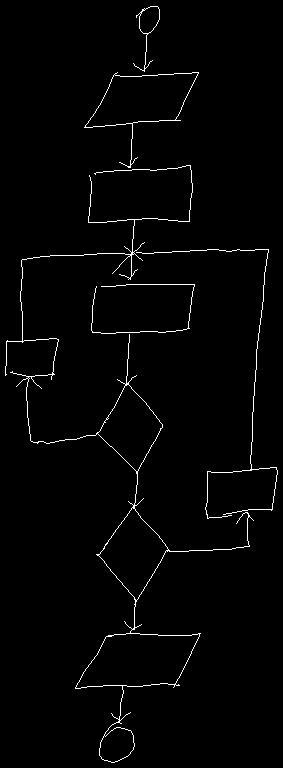arrow: (133, 242, 268, 470), (20, 246, 133, 342), (16, 376, 96, 443), (167, 512, 253, 551), (119, 220, 137, 279), (117, 334, 136, 384), (119, 123, 137, 167), (133, 34, 152, 71), (111, 685, 130, 722), (124, 598, 141, 633), (128, 471, 143, 507)
connection: (99, 722, 134, 762), (136, 6, 159, 33)
data: (75, 633, 200, 688), (84, 72, 198, 127)
decision: (96, 506, 169, 604), (96, 381, 162, 473)
process: (88, 165, 192, 222), (91, 284, 194, 333), (205, 467, 277, 518), (5, 338, 58, 379)
